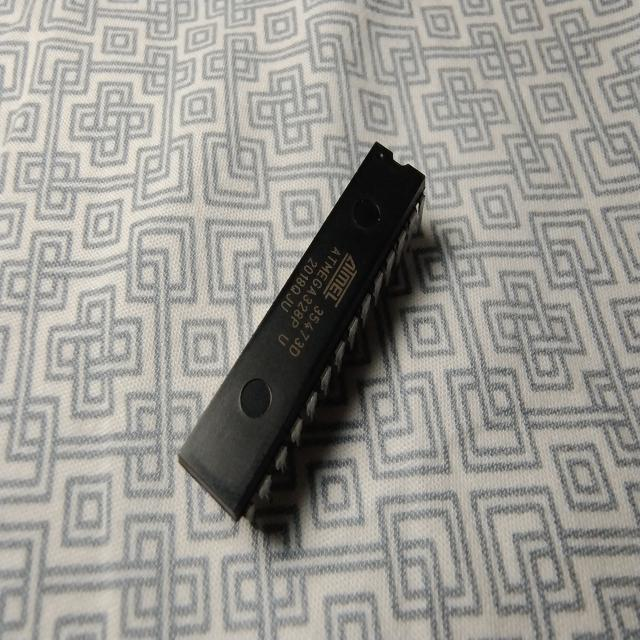atmega: (175, 138, 428, 529)
